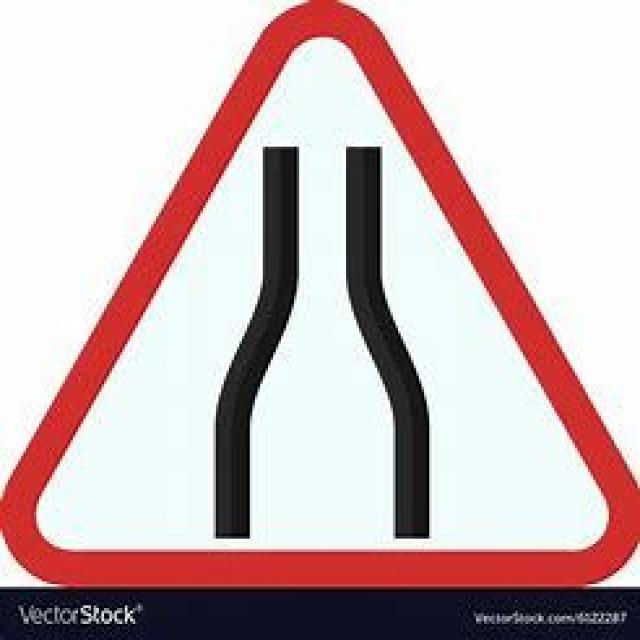NARROW_ROAD_AHEAD: (0, 0, 637, 584)
